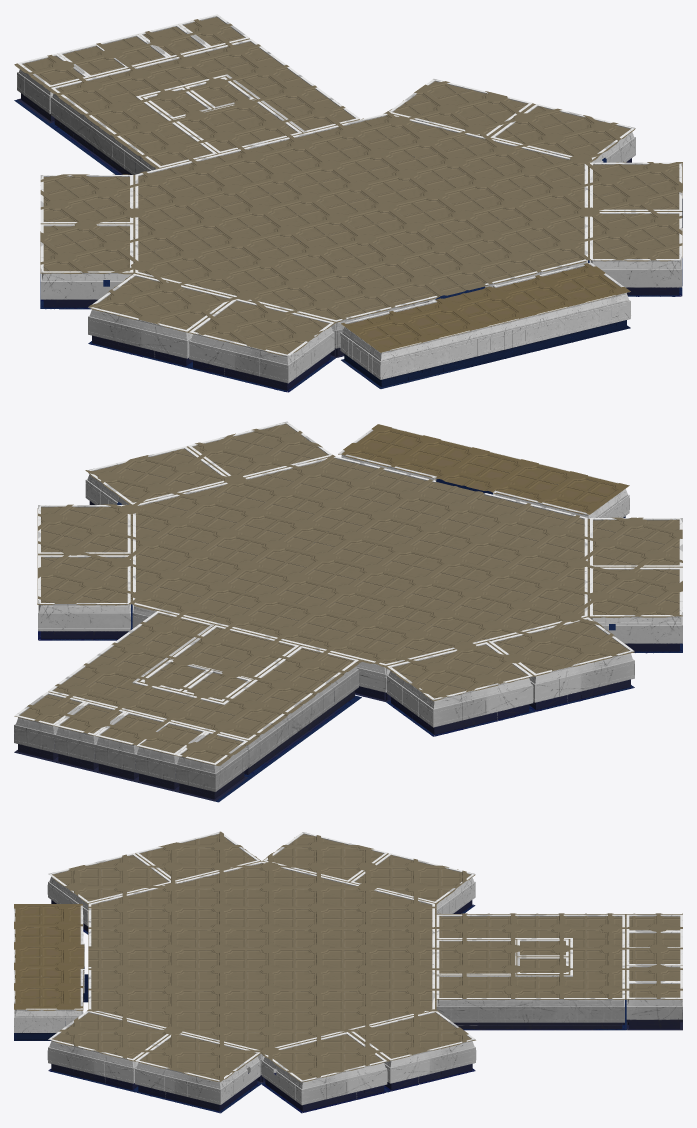
File: Room2.fbx
The picture shows the model from 3 angles, top to bottom: view 1: azimuth 30°, elevation 25°; view 2: azimuth 150°, elevation 25°; view 3: azimuth 270°, elevation 25°; orthographic projection. The views are drawn at different scales.
Visible parts, largest first — view 1: Ceiling.001, Ceiling.002, Wall_05_Panels.037, Wall_05_Panels.033, Wall_05_Panels.077, Wall_05_Panels.031, Wall_05_Panels.005, Wall_05_Panels.036, Wall_05_Panels.026, Wall_05_Panels.039, Wall_05_Panels.034, floor.002 (+1 smaller); view 2: Ceiling.001, Ceiling.002, Wall_05_Panels.043, Wall_05_Panels.035, Wall_05_Panels.077, Wall_05_Panels.031, Wall_05_Panels.013, Wall_05_Panels.075, Wall_05_Panels.078, Wall_05_Panels.034, floor.002, floor.003 (+2 smaller); view 3: Ceiling.001, Ceiling.002, Wall_05_Panels.029, Wall_05_Panels.012, Wall_05_Panels.017, Wall_05_Panels.077, Wall_05_Panels.042, Wall_05_Panels.038, Wall_05_Panels.011, Wall_05_Panels.015, Wall_05_Panels.078, Wall_05_Panels.026 (+2 smaller).
Boxes of the visible parts, x1,y1,x2,y2 form: Ceiling.001: [14, 17, 682, 355]; Ceiling.002: [341, 263, 630, 352]; Wall_05_Panels.037: [380, 292, 630, 388]; Wall_05_Panels.033: [88, 307, 288, 392]; Wall_05_Panels.077: [130, 112, 592, 359]; Wall_05_Panels.031: [50, 88, 160, 174]; Wall_05_Panels.005: [591, 259, 682, 296]; Wall_05_Panels.036: [40, 271, 132, 308]; Wall_05_Panels.026: [287, 322, 334, 392]; Wall_05_Panels.039: [340, 326, 381, 388]; Wall_05_Panels.034: [17, 63, 50, 123]; floor.002: [40, 158, 682, 391]; Ceiling.001: [14, 423, 682, 765]; Ceiling.002: [338, 424, 629, 514]; Wall_05_Panels.043: [14, 715, 215, 801]; Wall_05_Panels.035: [433, 650, 634, 736]; Wall_05_Panels.077: [127, 455, 592, 702]; Wall_05_Panels.031: [248, 660, 359, 774]; Wall_05_Panels.013: [38, 603, 130, 640]; Wall_05_Panels.075: [590, 615, 682, 652]; Wall_05_Panels.078: [386, 666, 434, 736]; Wall_05_Panels.034: [214, 741, 248, 801]; floor.002: [52, 501, 682, 736]; floor.003: [14, 695, 361, 802]; Ceiling.001: [52, 831, 682, 1082]; Ceiling.002: [14, 904, 84, 1010]; Wall_05_Panels.029: [436, 998, 624, 1030]; Wall_05_Panels.012: [301, 1039, 475, 1113]; Wall_05_Panels.017: [47, 1039, 220, 1112]; Wall_05_Panels.077: [87, 860, 439, 1084]; Wall_05_Panels.042: [626, 997, 682, 1030]; Wall_05_Panels.038: [14, 1008, 82, 1039]; Wall_05_Panels.011: [261, 1054, 302, 1112]; Wall_05_Panels.015: [219, 1052, 260, 1112]; Wall_05_Panels.078: [435, 874, 475, 913]; Wall_05_Panels.026: [47, 874, 88, 934].
Bounding box in the file's own units: 5032 × 297 × 5681.
5 materials, 5 textured.
